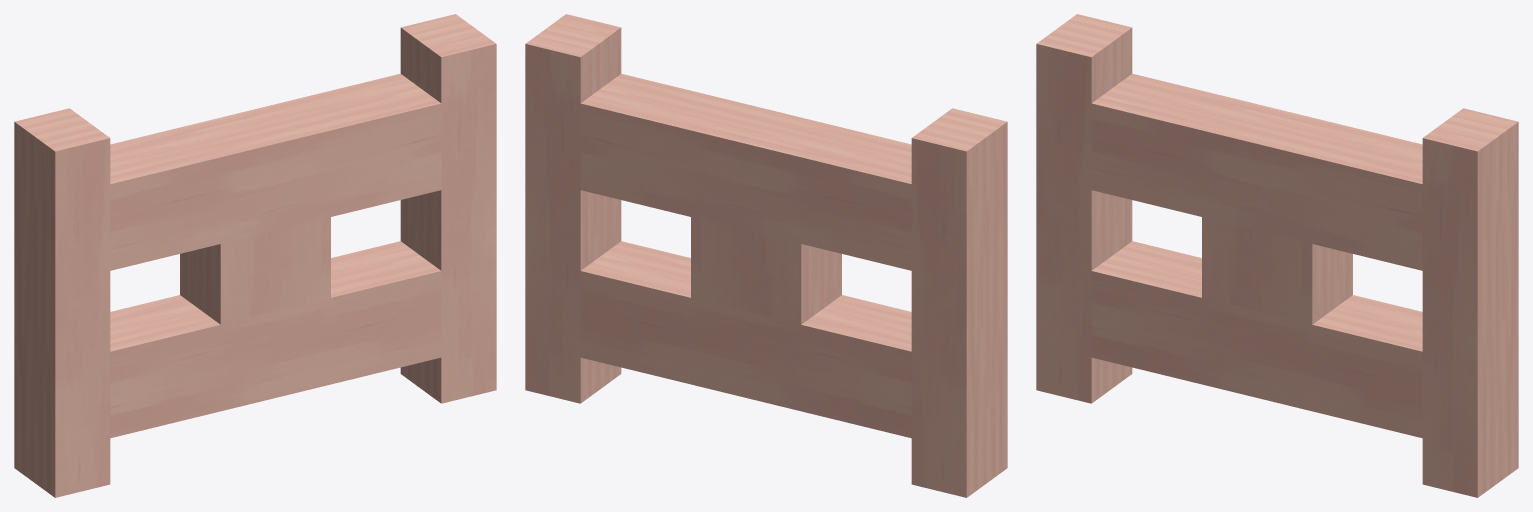
Rendered from PinkFence.fbx.
3 renders of one model, left to right at view 1: azimuth 30°, elevation 25°; view 2: azimuth 150°, elevation 25°; view 3: azimuth 330°, elevation 25°, orthographic.
Parts seen in each view (by area): view 1: PinkFence; view 2: PinkFence; view 3: PinkFence.
Boxes of the visible parts, box(x1,y1,x2,y2) form: PinkFence: box(14, 14, 496, 497); PinkFence: box(525, 14, 1007, 497); PinkFence: box(1036, 14, 1518, 497).
Bounding box in the file's own units: 100 × 75 × 16.
1 material, 1 textured.
